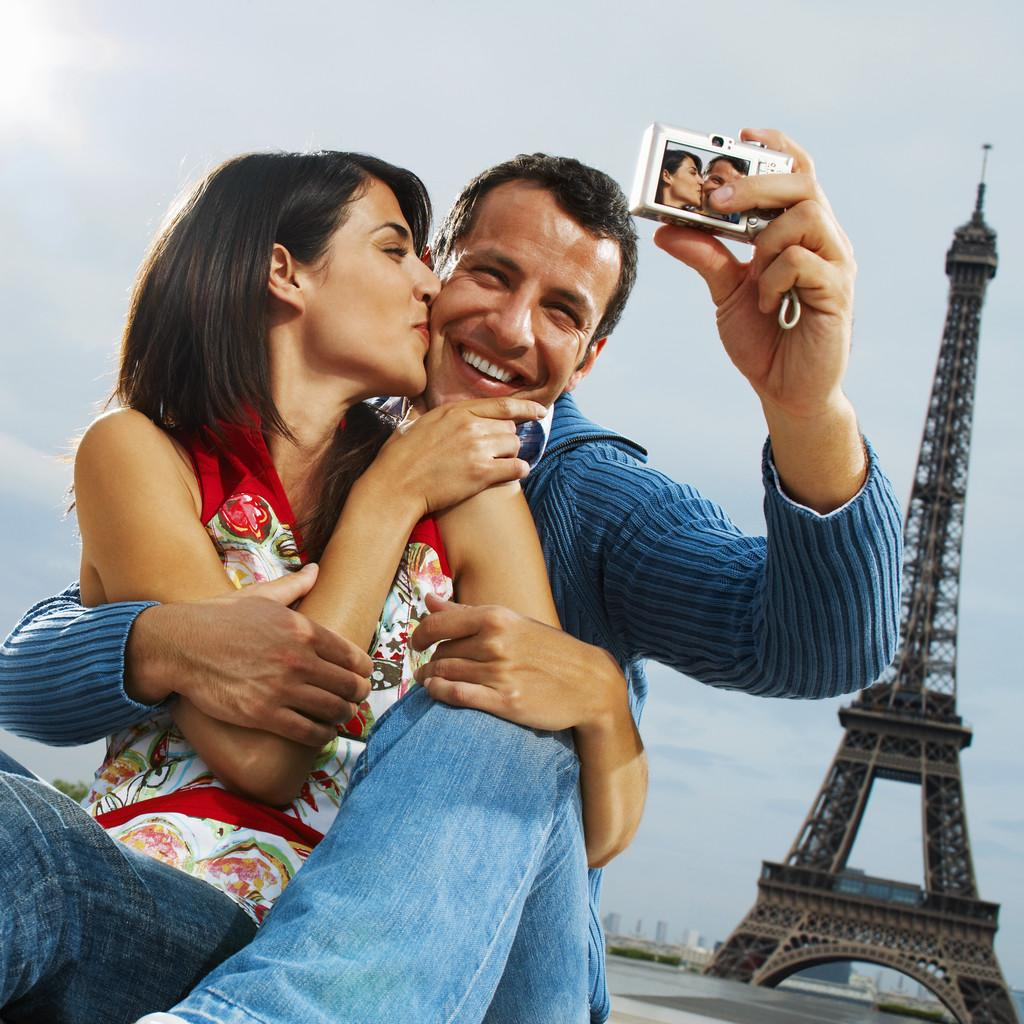face: (431, 178, 615, 414), (308, 165, 441, 398), (703, 162, 739, 211), (671, 154, 704, 205)
